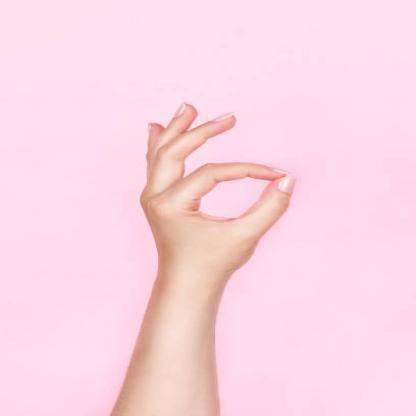ok: (130, 97, 300, 271)
